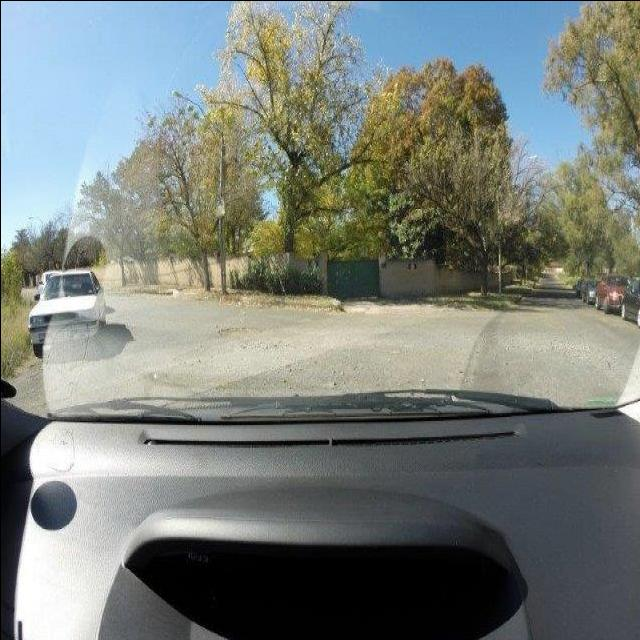lubang: (212, 321, 271, 343)
